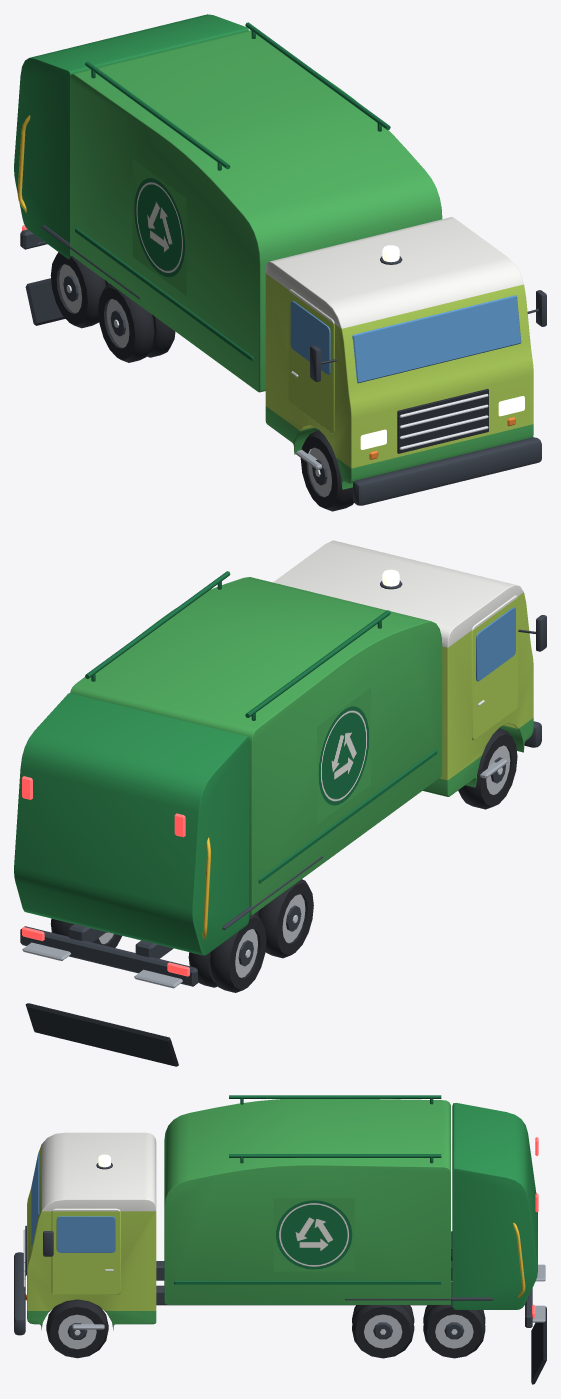
File: caminhao_lixo.glb
The picture shows the model from 3 angles, top to bottom: view 1: azimuth 30°, elevation 25°; view 2: azimuth 150°, elevation 25°; view 3: azimuth 270°, elevation 25°; orthographic projection. The views are drawn at different scales.
Visible parts, largest first — view 1: caminhao_lixo, cacamba, porta_1, roda_3, roda_5, roda_1; view 2: caminhao_lixo, cacamba, porta_1, roda_5, roda_3, roda_1; view 3: caminhao_lixo, cacamba, porta_2, roda_4, roda_2, roda_6.
Boxes of the visible parts, x1,y1,x2,y2 form: caminhao_lixo: [20, 22, 546, 505]; cacamba: [14, 14, 248, 325]; porta_1: [288, 289, 334, 433]; roda_3: [98, 284, 175, 362]; roda_5: [50, 252, 109, 328]; roda_1: [300, 430, 354, 511]; caminhao_lixo: [20, 540, 546, 988]; cacamba: [14, 693, 249, 1066]; porta_1: [471, 595, 517, 740]; roda_5: [188, 914, 266, 992]; roda_3: [255, 879, 313, 958]; roda_1: [458, 728, 517, 809]; caminhao_lixo: [14, 1095, 545, 1335]; cacamba: [452, 1103, 546, 1384]; porta_2: [51, 1208, 120, 1294]; roda_4: [352, 1305, 414, 1358]; roda_2: [46, 1299, 108, 1358]; roda_6: [423, 1300, 485, 1358].
Size of the model in its own units: 3.11 by 3.98 by 8.23.
Materials: 5 (2 with a texture image).
